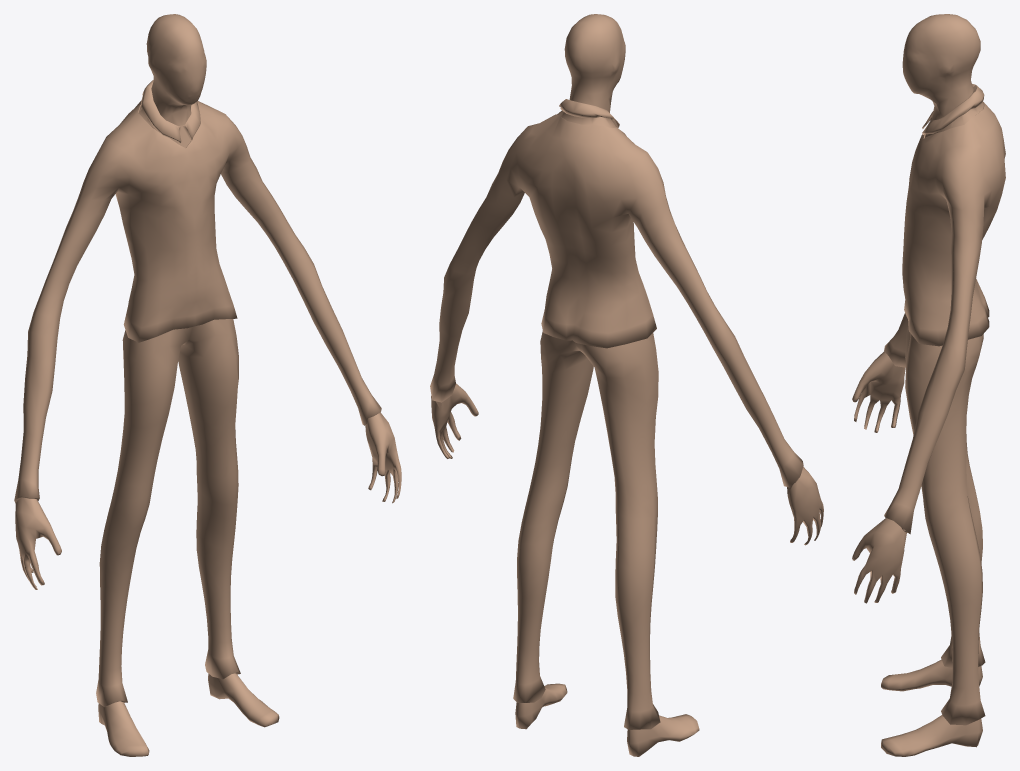
File: 2dfydbba2q-slenderman.FBX
3 views of the same model, side by side, from view 1: azimuth 30°, elevation 25°; view 2: azimuth 150°, elevation 25°; view 3: azimuth 270°, elevation 25° (orthographic).
Parts seen in each view (by area): view 1: humanBody; view 2: humanBody; view 3: humanBody.
Part boxes in pixels (x1,y1,x2,y2): humanBody: (14,14,401,756); humanBody: (430,14,823,756); humanBody: (852,14,1005,756).
Bounding box in the file's own units: 39.93 × 71.42 × 14.19.
